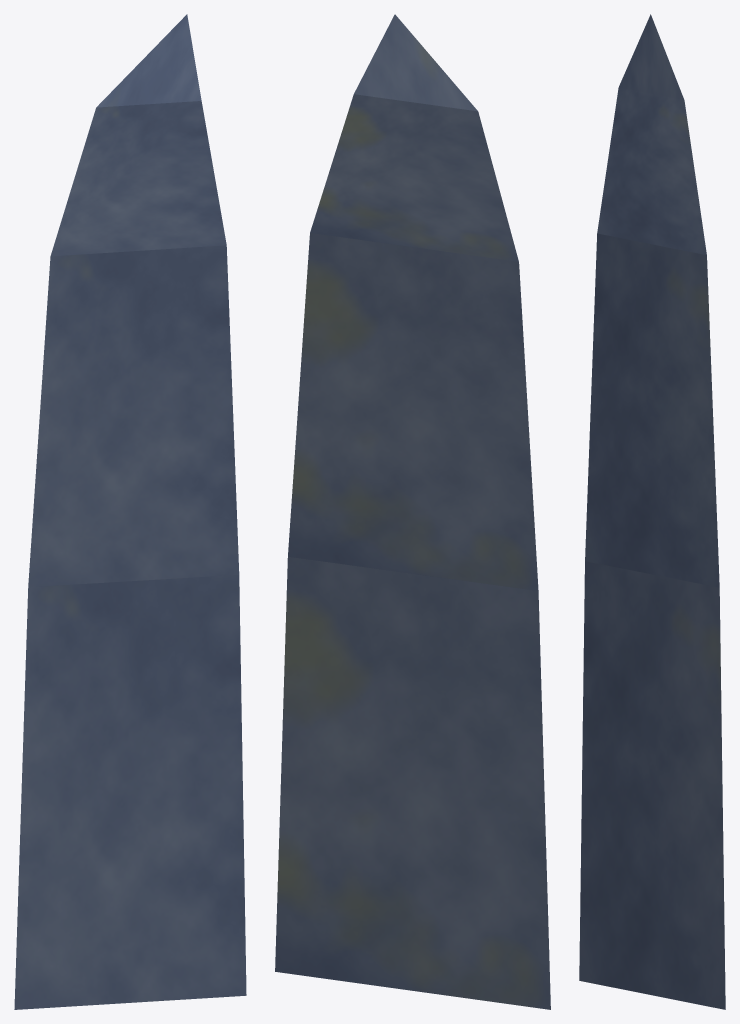
File: Oracle_Menhir_2_LOD2.gltf
3 renders of one model, left to right at view 1: azimuth 30°, elevation 25°; view 2: azimuth 150°, elevation 25°; view 3: azimuth 270°, elevation 25°, orthographic.
Visible parts, largest first — view 1: Oracle_Menhir_2_LOD2; view 2: Oracle_Menhir_2_LOD2; view 3: Oracle_Menhir_2_LOD2.
Boxes of the visible parts, bbox=[...] form: Oracle_Menhir_2_LOD2: bbox=[14, 14, 246, 1009]; Oracle_Menhir_2_LOD2: bbox=[275, 14, 550, 1009]; Oracle_Menhir_2_LOD2: bbox=[579, 14, 725, 1009].
Bounding box in the file's own units: 1.31 × 4.85 × 0.6732.
Materials: 1 (1 with a texture image).
